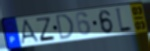6: (76, 10, 93, 39), (98, 9, 115, 35)
A: (20, 19, 41, 46)
D: (55, 13, 76, 42)
L: (115, 7, 133, 34)
Z: (35, 17, 57, 43)
